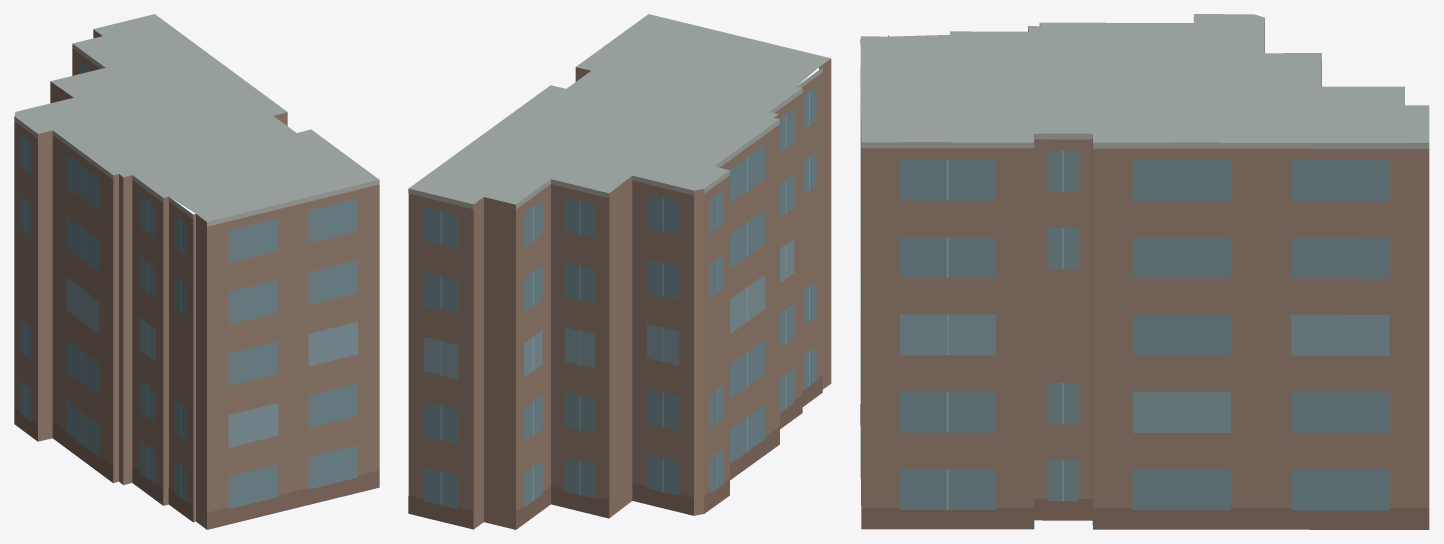
File: survey-upis-32773707.glb
3 views of the same model, side by side, from view 1: azimuth 30°, elevation 25°; view 2: azimuth 150°, elevation 25°; view 3: azimuth 270°, elevation 25° (orthographic). The views are drawn at different scales.
Parts seen in each view (by area): view 1: survey-upis-32773707.tmp; view 2: survey-upis-32773707.tmp; view 3: survey-upis-32773707.tmp.
Boxes of the visible parts, box(x1,y1,x2,y2) form: survey-upis-32773707.tmp: box(14, 14, 379, 529); survey-upis-32773707.tmp: box(408, 14, 831, 529); survey-upis-32773707.tmp: box(860, 14, 1429, 529).
Size of the model in its own units: 11.46 by 16 by 21.33.
